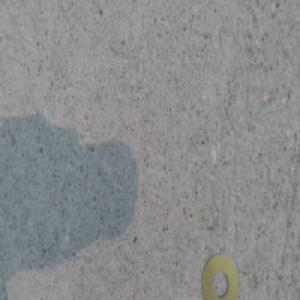Washer: (202, 252, 239, 299)
